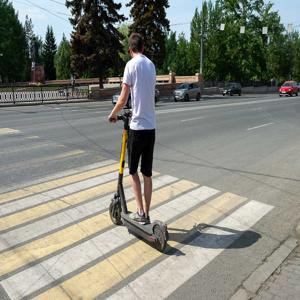human on a scooter: (107, 32, 170, 253)
